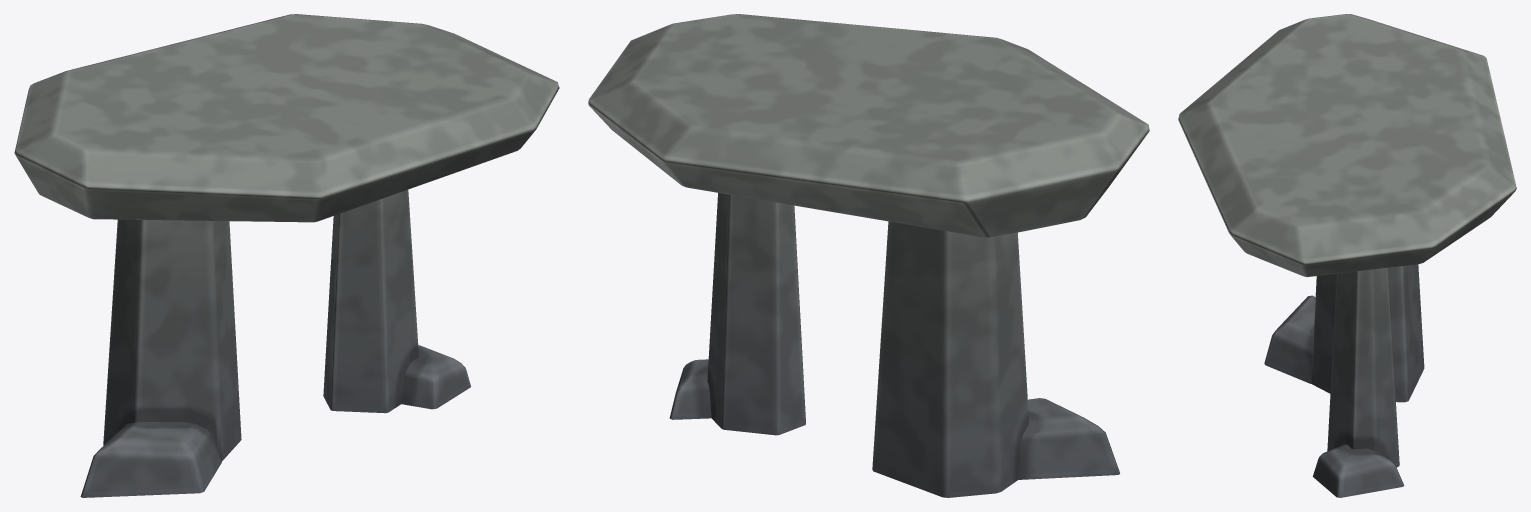
File: table_rock_2.glb
3 views of the same model, side by side, from view 1: azimuth 30°, elevation 25°; view 2: azimuth 150°, elevation 25°; view 3: azimuth 270°, elevation 25° (orthographic). The views are drawn at different scales.
Visible parts, largest first — view 1: table_rock_2; view 2: table_rock_2; view 3: table_rock_2.
Part boxes in pixels (x1=…): table_rock_2: x1=14, y1=14, x2=559, y2=497; table_rock_2: x1=588, y1=14, x2=1149, y2=497; table_rock_2: x1=1178, y1=14, x2=1516, y2=497.
Bounding box in the file's own units: 6.4 × 4.2 × 4.2.
1 material, 1 textured.
